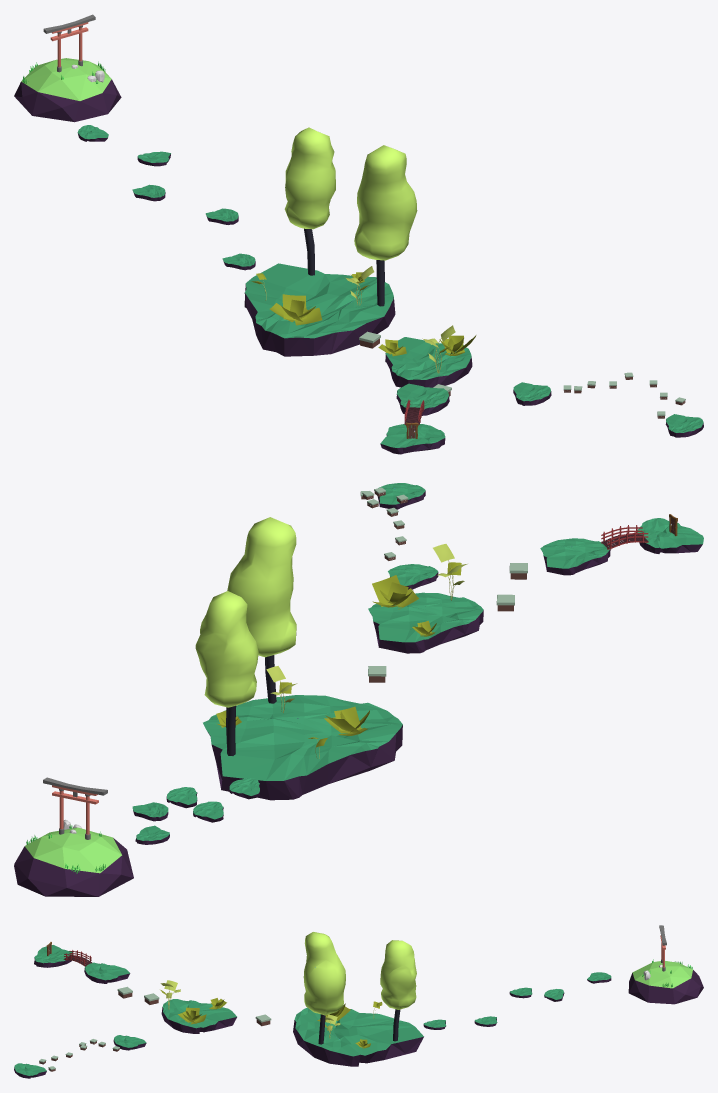
The model's file is Level1V2.glb.
3 renders of one model, top to bottom at view 1: azimuth 30°, elevation 25°; view 2: azimuth 150°, elevation 25°; view 3: azimuth 270°, elevation 25°, orthographic. The views are drawn at different scales.
Parts seen in each view (by area): view 1: Island_3, Tree_2, Tree, Island_3.001, Sphere, Sphere.005, Island_3.010, Island_3.002, Island_3.003, Island_3.004; view 2: Island_3, Tree_2, Tree, Island_3.001, Sphere.005, Sphere, Island_3.002, Island_3.010, Island_3.003, Island_3.004, Cube.006, Cube.003; view 3: Island_3, Tree_2, Tree, Island_3.001, Sphere.005, Sphere, Island_3.002, Island_3.010, Island_3.004, Island_3.003, Cube.006.
Boxes of the visible parts, bbox=[...] form: Island_3: bbox=[244, 263, 395, 356]; Tree_2: bbox=[354, 145, 417, 306]; Tree: bbox=[284, 127, 335, 275]; Island_3.001: bbox=[385, 337, 472, 387]; Sphere: bbox=[21, 58, 111, 100]; Sphere.005: bbox=[14, 67, 121, 122]; Island_3.010: bbox=[380, 424, 445, 454]; Island_3.002: bbox=[396, 383, 449, 415]; Island_3.003: bbox=[513, 382, 551, 405]; Island_3.004: bbox=[665, 414, 703, 437]; Island_3: bbox=[203, 695, 402, 800]; Tree_2: bbox=[227, 517, 296, 703]; Tree: bbox=[195, 591, 258, 755]; Island_3.001: bbox=[368, 592, 483, 653]; Sphere.005: bbox=[14, 838, 133, 896]; Sphere: bbox=[25, 827, 121, 873]; Island_3.002: bbox=[540, 538, 610, 575]; Island_3.010: bbox=[637, 518, 703, 553]; Island_3.003: bbox=[388, 564, 438, 589]; Island_3.004: bbox=[377, 483, 425, 509]; Cube.006: bbox=[601, 525, 648, 549]; Cube.003: bbox=[52, 785, 98, 834]; Island_3: bbox=[293, 1007, 423, 1066]; Tree_2: bbox=[303, 932, 345, 1044]; Tree: bbox=[380, 940, 416, 1041]; Island_3.001: bbox=[161, 999, 236, 1033]; Sphere.005: bbox=[628, 970, 703, 1004]; Sphere: bbox=[632, 961, 692, 988]; Island_3.002: bbox=[84, 962, 130, 983]; Island_3.010: bbox=[34, 945, 73, 967]; Island_3.004: bbox=[14, 1063, 46, 1078]; Island_3.003: bbox=[113, 1035, 146, 1050]; Cube.006: bbox=[63, 950, 91, 966].
Bounding box in the file's own units: 9.96 × 5.72 × 27.7.
48 materials, 13 textured.
